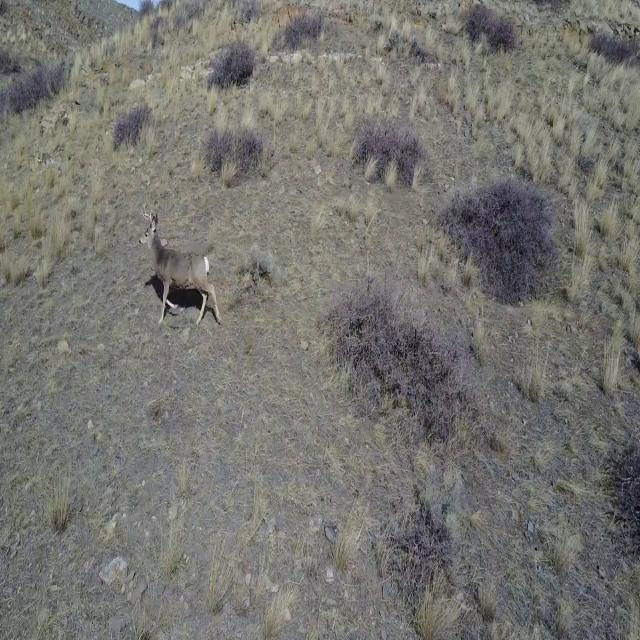Deer: (138, 200, 224, 330)
